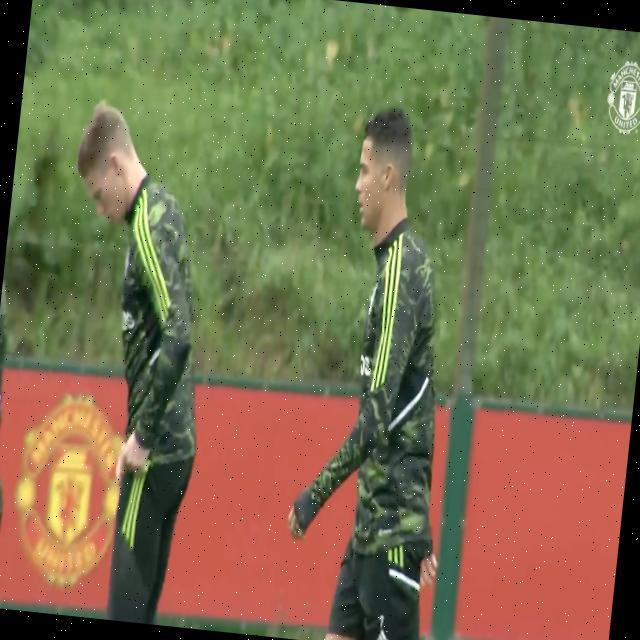Adidas: (375, 630, 390, 640)
